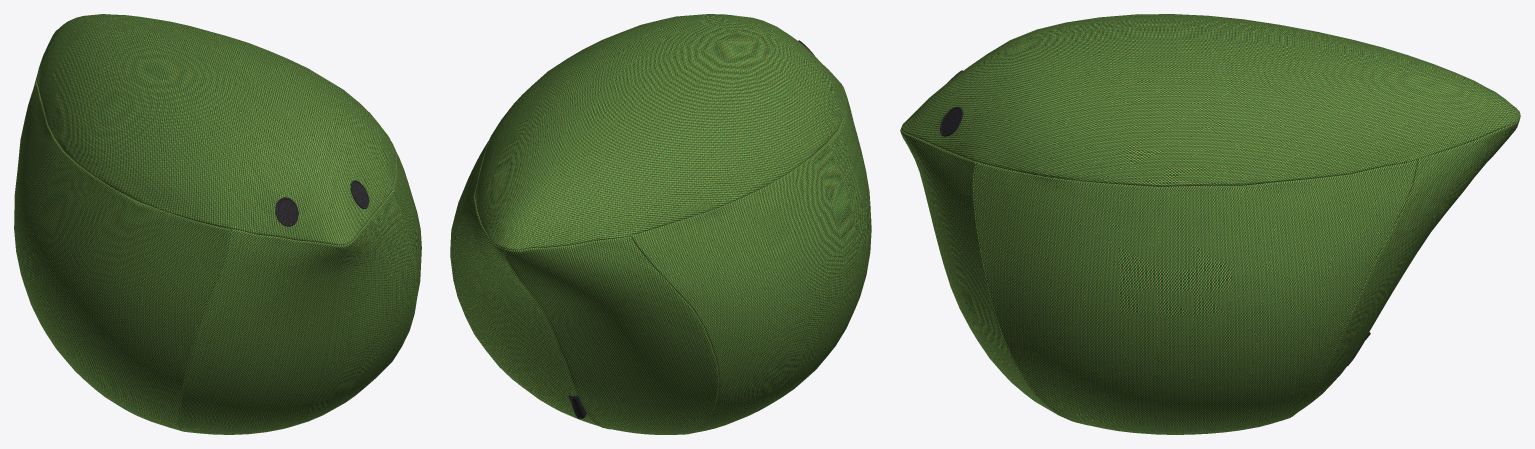
Rendered from Hulsta_Birdy_Pouf_mat(8).fbx.
3 renders of one model, left to right at view 1: azimuth 30°, elevation 25°; view 2: azimuth 150°, elevation 25°; view 3: azimuth 270°, elevation 25°, orthographic. The views are drawn at different scales.
Parts seen in each view (by area): view 1: Hulsta_Birdy_Pouf_mat8; view 2: Hulsta_Birdy_Pouf_mat8; view 3: Hulsta_Birdy_Pouf_mat8.
Boxes of the visible parts, x1,y1,x2,y2 form: Hulsta_Birdy_Pouf_mat8: (14,14,421,434); Hulsta_Birdy_Pouf_mat8: (450,14,871,434); Hulsta_Birdy_Pouf_mat8: (900,14,1520,434).
Bounding box in the file's own units: 50.8 × 74.33 × 48.
